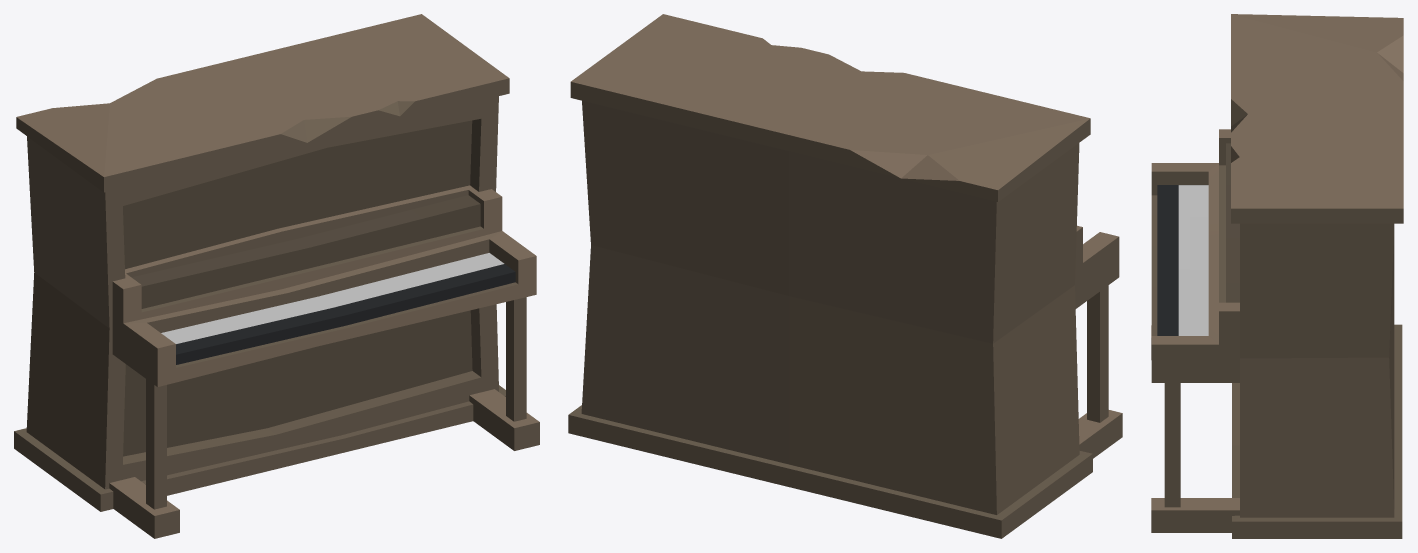
Rendered from piano.fbx.
3 renders of one model, left to right at view 1: azimuth 30°, elevation 25°; view 2: azimuth 150°, elevation 25°; view 3: azimuth 270°, elevation 25°, orthographic. The views are drawn at different scales.
Parts seen in each view (by area): view 1: piano; view 2: piano; view 3: piano.
Boxes of the visible parts, x1,y1,x2,y2 form: piano: (14,14,539,538); piano: (568,14,1122,538); piano: (1151,14,1403,538).
Bounding box in the file's own units: 187 × 146 × 101.
1 material, 1 textured.
